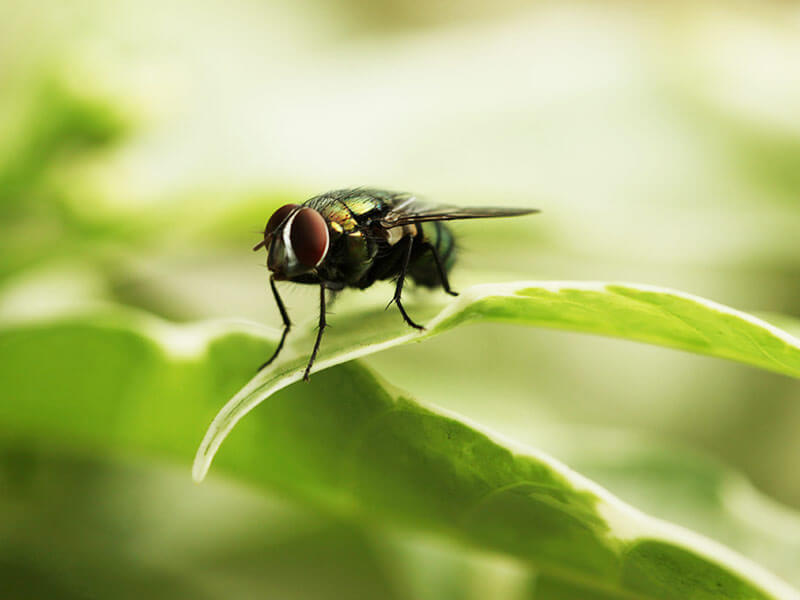house fly: (253, 180, 546, 386)
